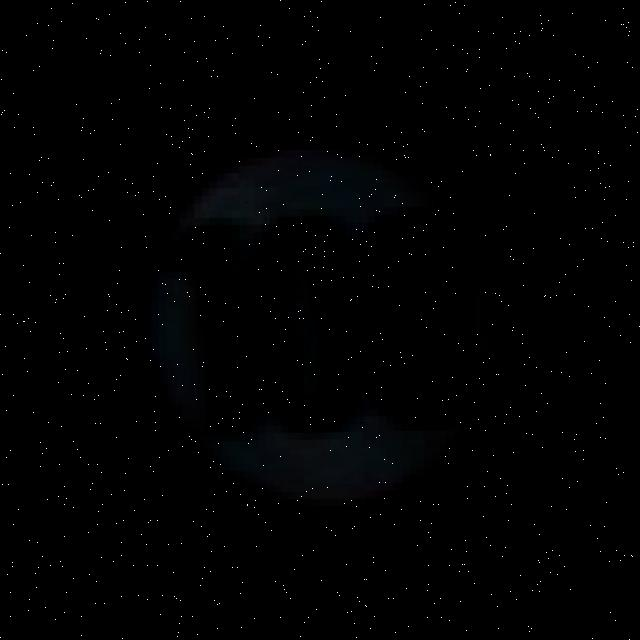Ograniczenie predkosci do 100: (56, 55, 592, 592)
